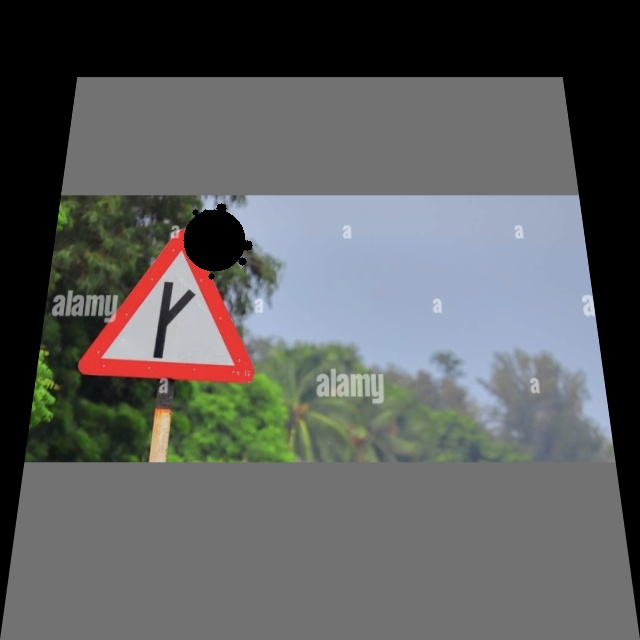Y_Intersection: (83, 224, 255, 385)
